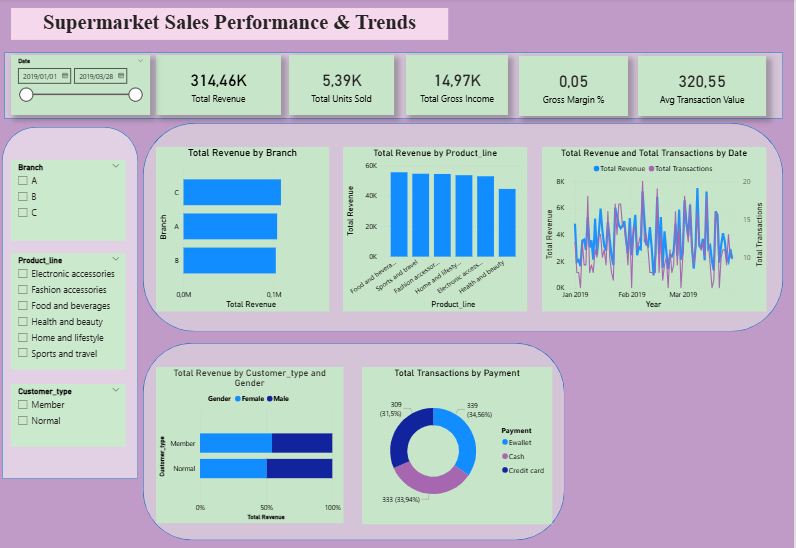

The dashboard page shown, as its layout file describes it:
{"tool":"powerbi","page":{"name":"Page 1","canvas":[1450,1000],"ordinal":0},"visuals":[{"type":"shape","box":[12.7,98.2,1416.4,121.8],"z":0},{"type":"card","fields":{"Values":["DateTable.Total Revenue"]},"box":[289.1,103.6,227.3,109.1],"z":1000},{"type":"card","fields":{"Values":["DateTable.Total Units Sold"]},"box":[530.9,103.6,190.9,109.1],"z":2000},{"type":"card","fields":{"Values":["DateTable.Total Gross Income"]},"box":[743.6,103.6,185.5,109.1],"z":3000},{"type":"card","fields":{"Values":["DateTable.Gross Margin %"]},"box":[949.1,105.5,198.2,109.1],"z":4000},{"type":"card","fields":{"Values":["DateTable.Avg Transaction Value"]},"box":[1165.5,105.5,232.7,109.1],"z":5000},{"type":"shape","box":[265.7,227,1163.6,379.3],"z":6000},{"type":"clusteredBarChart","fields":{"Category":["supermarket_sales_clean.Branch"],"Y":["DateTable.Total Revenue"]},"box":[289,270.9,314.8,299.3],"z":7000},{"type":"columnChart","title":"Total Revenue by Product_line","fields":{"Category":["supermarket_sales_clean.Product_line"],"Y":["DateTable.Total Revenue"]},"box":[629.5,270.9,335.4,299.3],"z":8000},{"type":"lineChart","title":"Total Revenue and Total Transactions by Date","fields":{"Category":["DateTable.Date.Variation.Date Hierarchy.Year","DateTable.Date.Variation.Date Hierarchy.Quarter","DateTable.Date.Variation.Date Hierarchy.Month","DateTable.Date.Variation.Date Hierarchy.Day"],"Y":["DateTable.Total Revenue"],"Y2":["DateTable.Total Transactions"]},"box":[990.7,270.9,407.7,299.3],"z":9000},{"type":"shape","box":[265.7,627,766.3,358.6],"z":10000},{"type":"hundredPercentStackedBarChart","fields":{"Category":["supermarket_sales_clean.Customer_type"],"Y":["DateTable.Total Revenue"],"Series":["supermarket_sales_clean.Gender"]},"box":[289,670.8,340.6,283.8],"z":11000},{"type":"shape","box":[9.1,234.5,247.3,640],"z":12000},{"type":"donutChart","fields":{"Y":["DateTable.Total Transactions"],"Category":["supermarket_sales_clean.Payment"]},"box":[663.1,670.8,345.7,286.4],"z":13000},{"type":"slicer","fields":{"Values":["DateTable.Date"]},"box":[25.5,103.6,252.7,109.1],"z":14000},{"type":"slicer","fields":{"Values":["supermarket_sales_clean.Branch"]},"box":[25.8,294.1,209,147.1],"z":15000},{"type":"slicer","fields":{"Values":["supermarket_sales_clean.Product_line"]},"box":[25.8,464.4,209,211.6],"z":16000},{"type":"slicer","fields":{"Values":["supermarket_sales_clean.Customer_type"]},"box":[25.8,701.8,209,113.5],"z":17000},{"type":"textbox","box":[25.5,18.2,794.5,58.2],"z":18000}]}

Visuals, with their boxes in screenshot pixels (x1, y1, x2, y2), scaled from the page's 1450x1000 canvas onto the 796x548 screenshot:
shape: <region>7, 54, 785, 121</region>
card - DateTable.Total Revenue: <region>159, 57, 283, 117</region>
card - DateTable.Total Units Sold: <region>291, 57, 396, 117</region>
card - DateTable.Total Gross Income: <region>408, 57, 510, 117</region>
card - DateTable.Gross Margin %: <region>521, 58, 630, 118</region>
card - DateTable.Avg Transaction Value: <region>640, 58, 768, 118</region>
shape: <region>146, 124, 785, 332</region>
clusteredBarChart - supermarket_sales_clean.Branch x DateTable.Total Revenue: <region>159, 148, 331, 312</region>
"Total Revenue by Product_line" columnChart: <region>346, 148, 530, 312</region>
"Total Revenue and Total Transactions by Date" lineChart: <region>544, 148, 768, 312</region>
shape: <region>146, 344, 567, 540</region>
hundredPercentStackedBarChart - supermarket_sales_clean.Customer_type x DateTable.Total Revenue: <region>159, 368, 346, 523</region>
shape: <region>5, 129, 141, 479</region>
donutChart - DateTable.Total Transactions x supermarket_sales_clean.Payment: <region>364, 368, 554, 525</region>
slicer - DateTable.Date: <region>14, 57, 153, 117</region>
slicer - supermarket_sales_clean.Branch: <region>14, 161, 129, 242</region>
slicer - supermarket_sales_clean.Product_line: <region>14, 254, 129, 370</region>
slicer - supermarket_sales_clean.Customer_type: <region>14, 385, 129, 447</region>
textbox: <region>14, 10, 450, 42</region>
